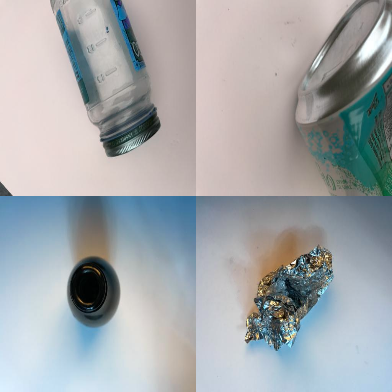glass: (50, 1, 161, 156), (66, 256, 120, 329)
metal: (293, 1, 391, 195), (244, 244, 333, 350)
